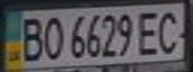2: (100, 10, 121, 58)
6: (66, 11, 87, 60), (84, 11, 103, 58)
9: (115, 10, 139, 57)
B: (15, 14, 45, 62)
C: (151, 7, 187, 55)
E: (136, 8, 163, 56)
O: (39, 12, 66, 61)
